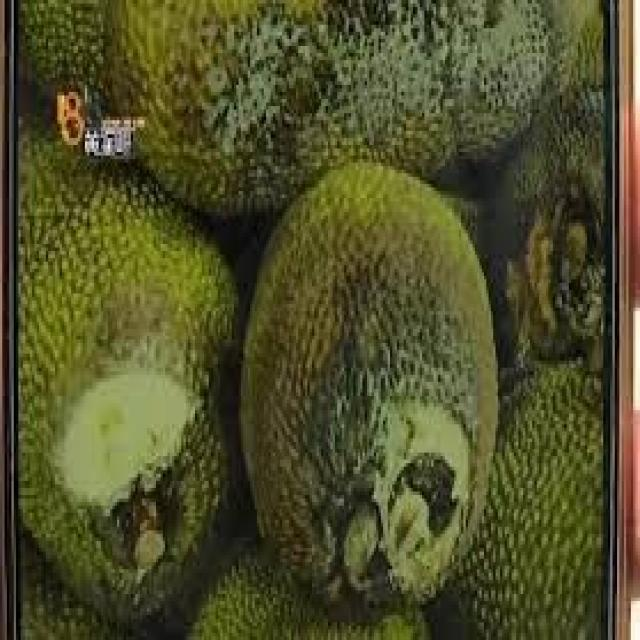organic waste: (234, 156, 495, 622), (16, 110, 239, 615), (101, 0, 573, 219), (436, 354, 601, 636), (479, 0, 601, 357), (18, 527, 126, 636), (16, 0, 106, 120)
